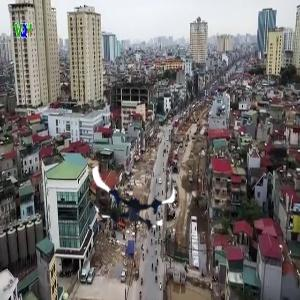drone: (93, 159, 180, 246)
